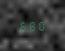eight: (28, 20, 36, 30)
six: (18, 20, 26, 31)
zero: (37, 19, 45, 30)
